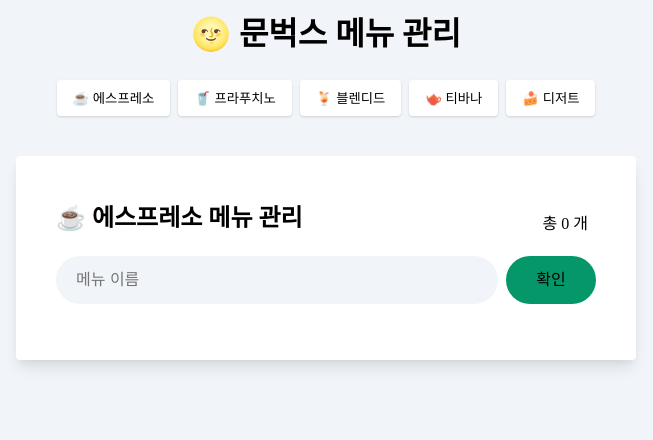
Test: 메인 페이지 테스팅 › 메뉴 추가 관련 테스팅 › 에스프레소 메뉴판에 새로운 메뉴를 입력 후 확인 버튼을 눌러 추가할 수 있다.
The image size is (653, 440).
Type "아메리카노" into the field with id "menu-name" at [277, 280], box [56,256,498,304]
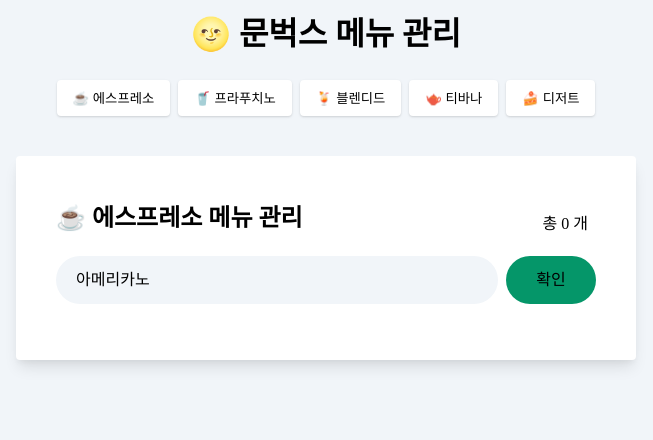
Click the button with id "menu-submit-button" at [551, 280], box [506,256,596,304]
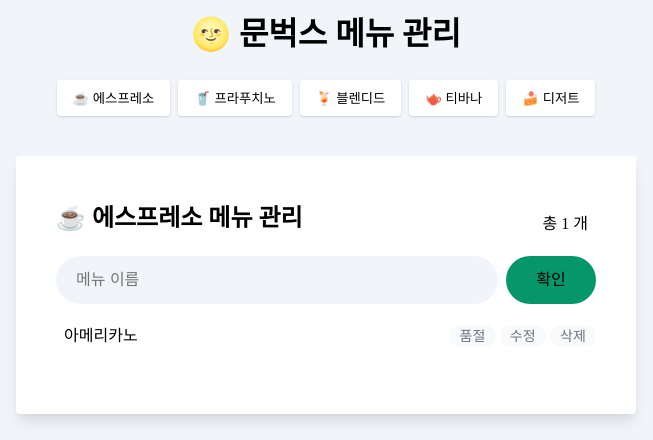
Now the text "아메리카노" is shown, box [64,327,138,344]
Now the text "총 1 개" is shown, box [542,212,588,236]
